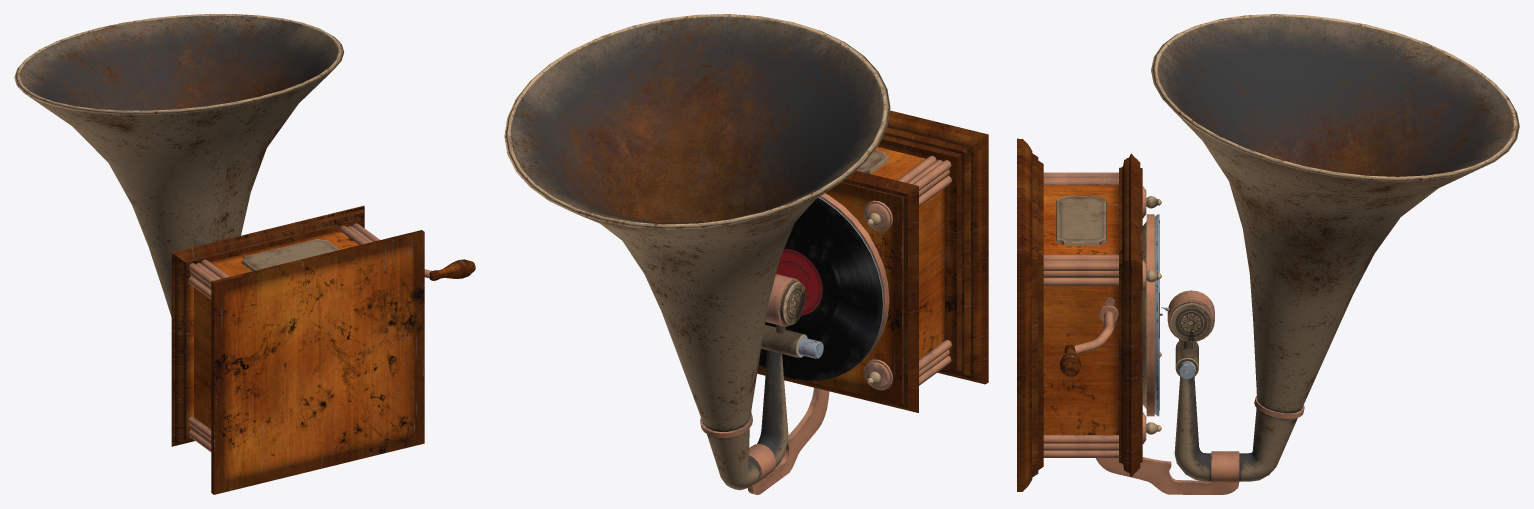
Rendered from SM_Grammafon_Old.fbx.
3 views of the same model, side by side, from view 1: azimuth 30°, elevation 25°; view 2: azimuth 150°, elevation 25°; view 3: azimuth 270°, elevation 25° (orthographic). The views are drawn at different scales.
Visible parts, largest first — view 1: SM_Grammafon_Old, SM_Grammafon_Truba, SM_Grammafon_Tablichka, SM_Grammafon_ruchka; view 2: SM_Grammafon_Truba, SM_Grammafon_Old, SM_Grammafon_Plastinka, SM_Grammafon_IGLA; view 3: SM_Grammafon_Truba, SM_Grammafon_Old, SM_Grammafon_IGLA, SM_Grammafon_Tablichka, SM_Grammafon_ruchka.
Boxes of the visible parts, box(x1,y1,x2,y2) form: SM_Grammafon_Old: box(171, 205, 424, 494); SM_Grammafon_Truba: box(14, 14, 344, 316); SM_Grammafon_Tablichka: box(241, 239, 339, 271); SM_Grammafon_ruchka: box(424, 259, 475, 280); SM_Grammafon_Truba: box(504, 14, 890, 490); SM_Grammafon_Old: box(747, 110, 988, 494); SM_Grammafon_Plastinka: box(758, 198, 882, 380); SM_Grammafon_IGLA: box(761, 274, 807, 357); SM_Grammafon_Truba: box(1151, 14, 1519, 481); SM_Grammafon_Old: box(1017, 138, 1239, 494); SM_Grammafon_IGLA: box(1161, 290, 1214, 376); SM_Grammafon_Tablichka: box(1056, 196, 1106, 245); SM_Grammafon_ruchka: box(1060, 311, 1113, 376).
Bounding box in the file's own units: 0.7391 × 0.8415 × 0.898.
